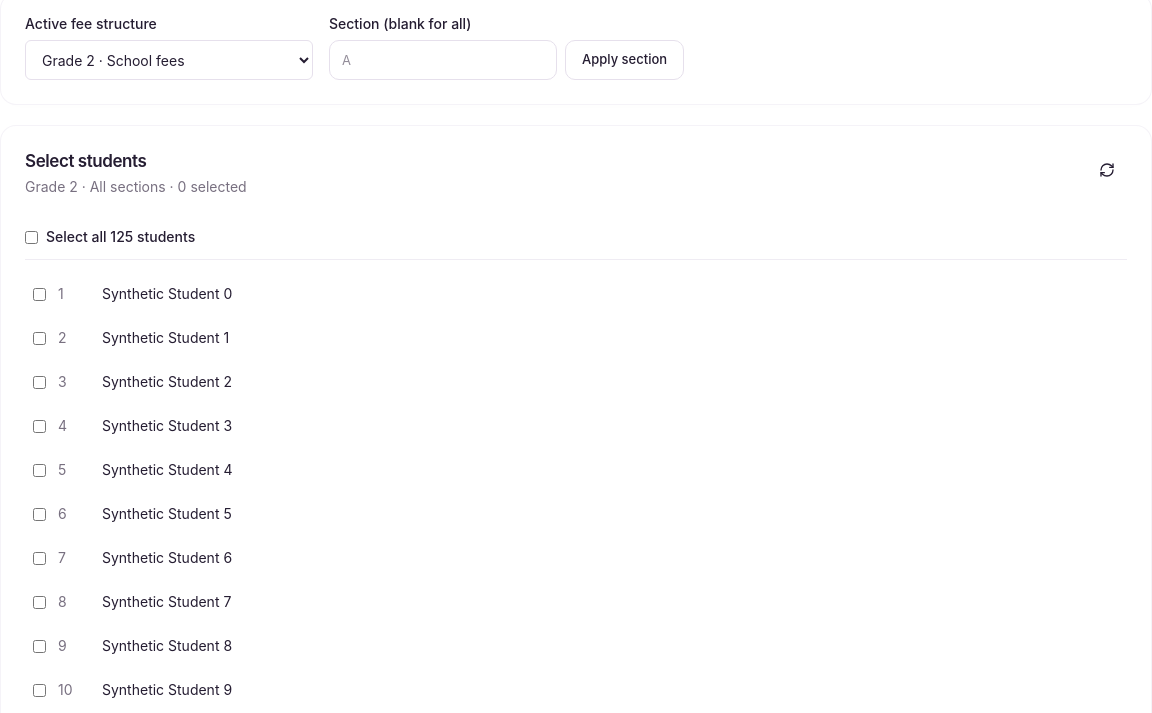
Test: billing shows all 125 students, and optional fees are excluded from the initial estimate
The image size is (1152, 713).
Click the checkbox labelled "Select all 125 students": click(32, 237) [25, 231, 38, 244]
(page scrolled)
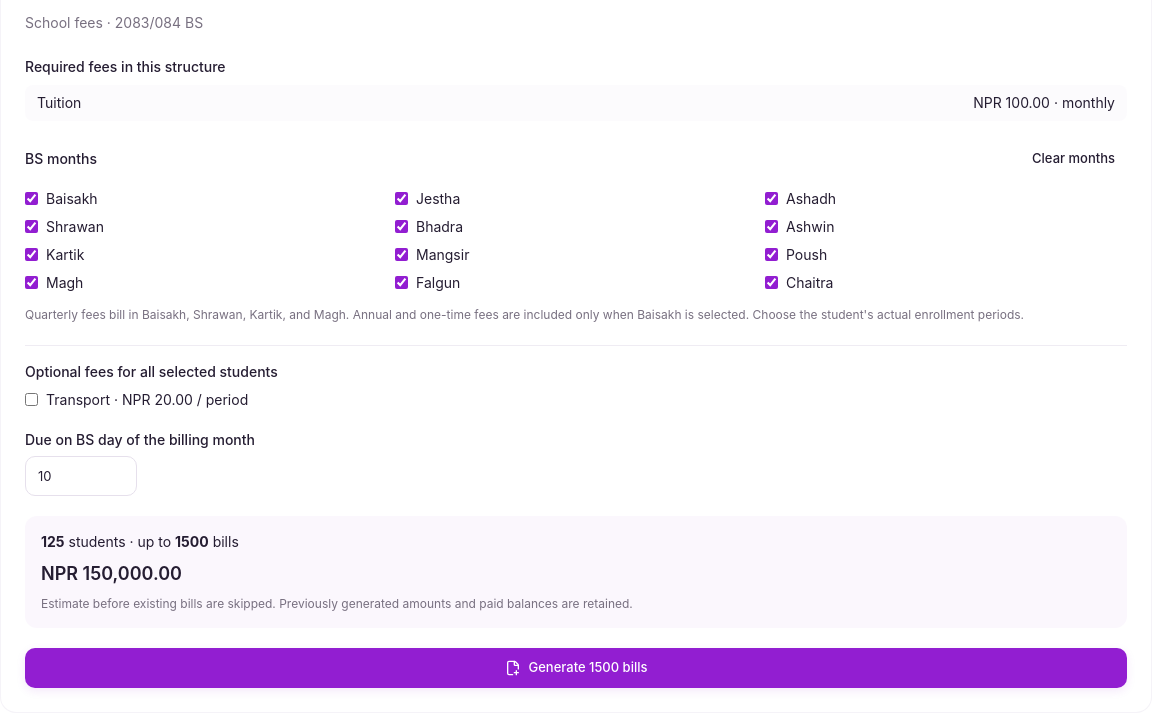
Expected: the button "Generate 1500 bills" is shown, [25, 648, 1127, 688]
Click the checkbox labelled "Transport · NPR 20.00 / period": click(32, 400) [25, 393, 38, 406]
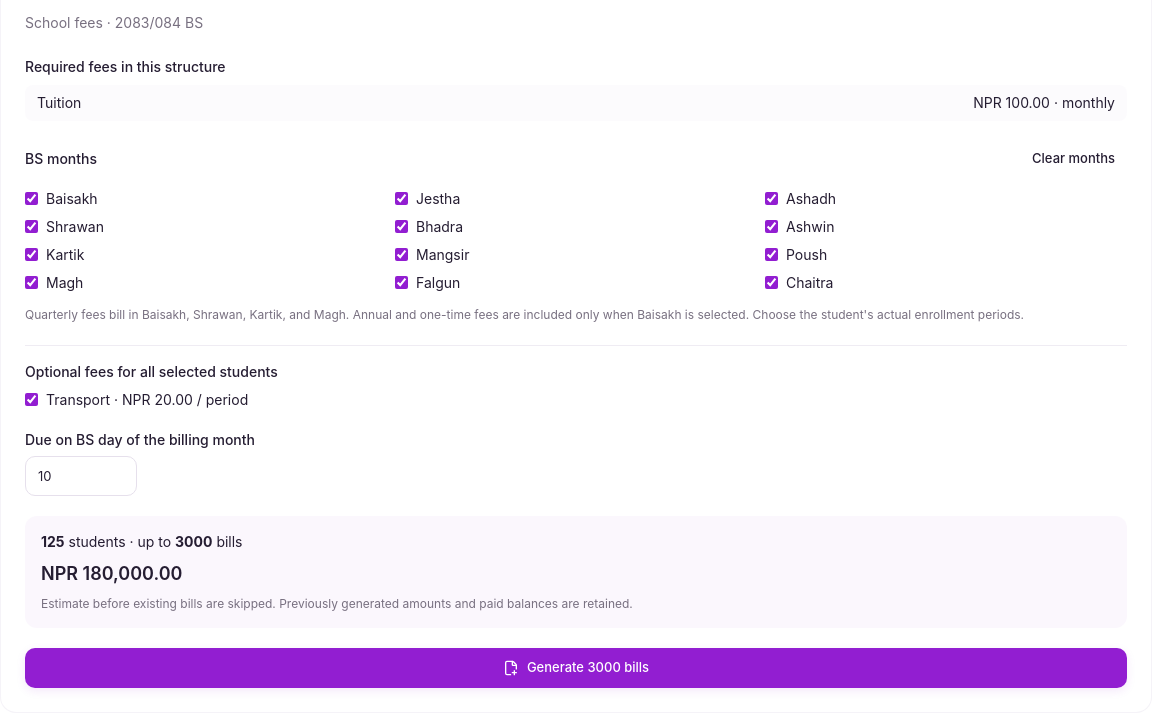
Expected: the button "Generate 3000 bills" is shown, [25, 648, 1127, 688]
